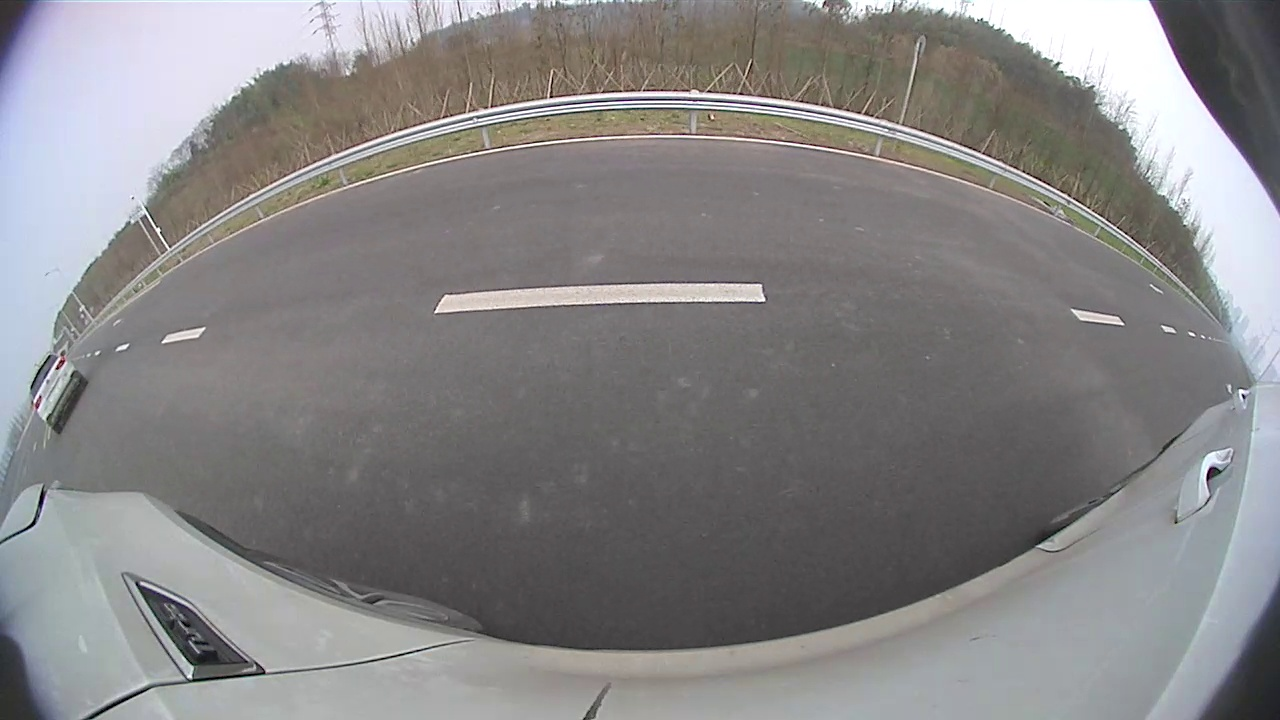car: (629, 131, 723, 206)
